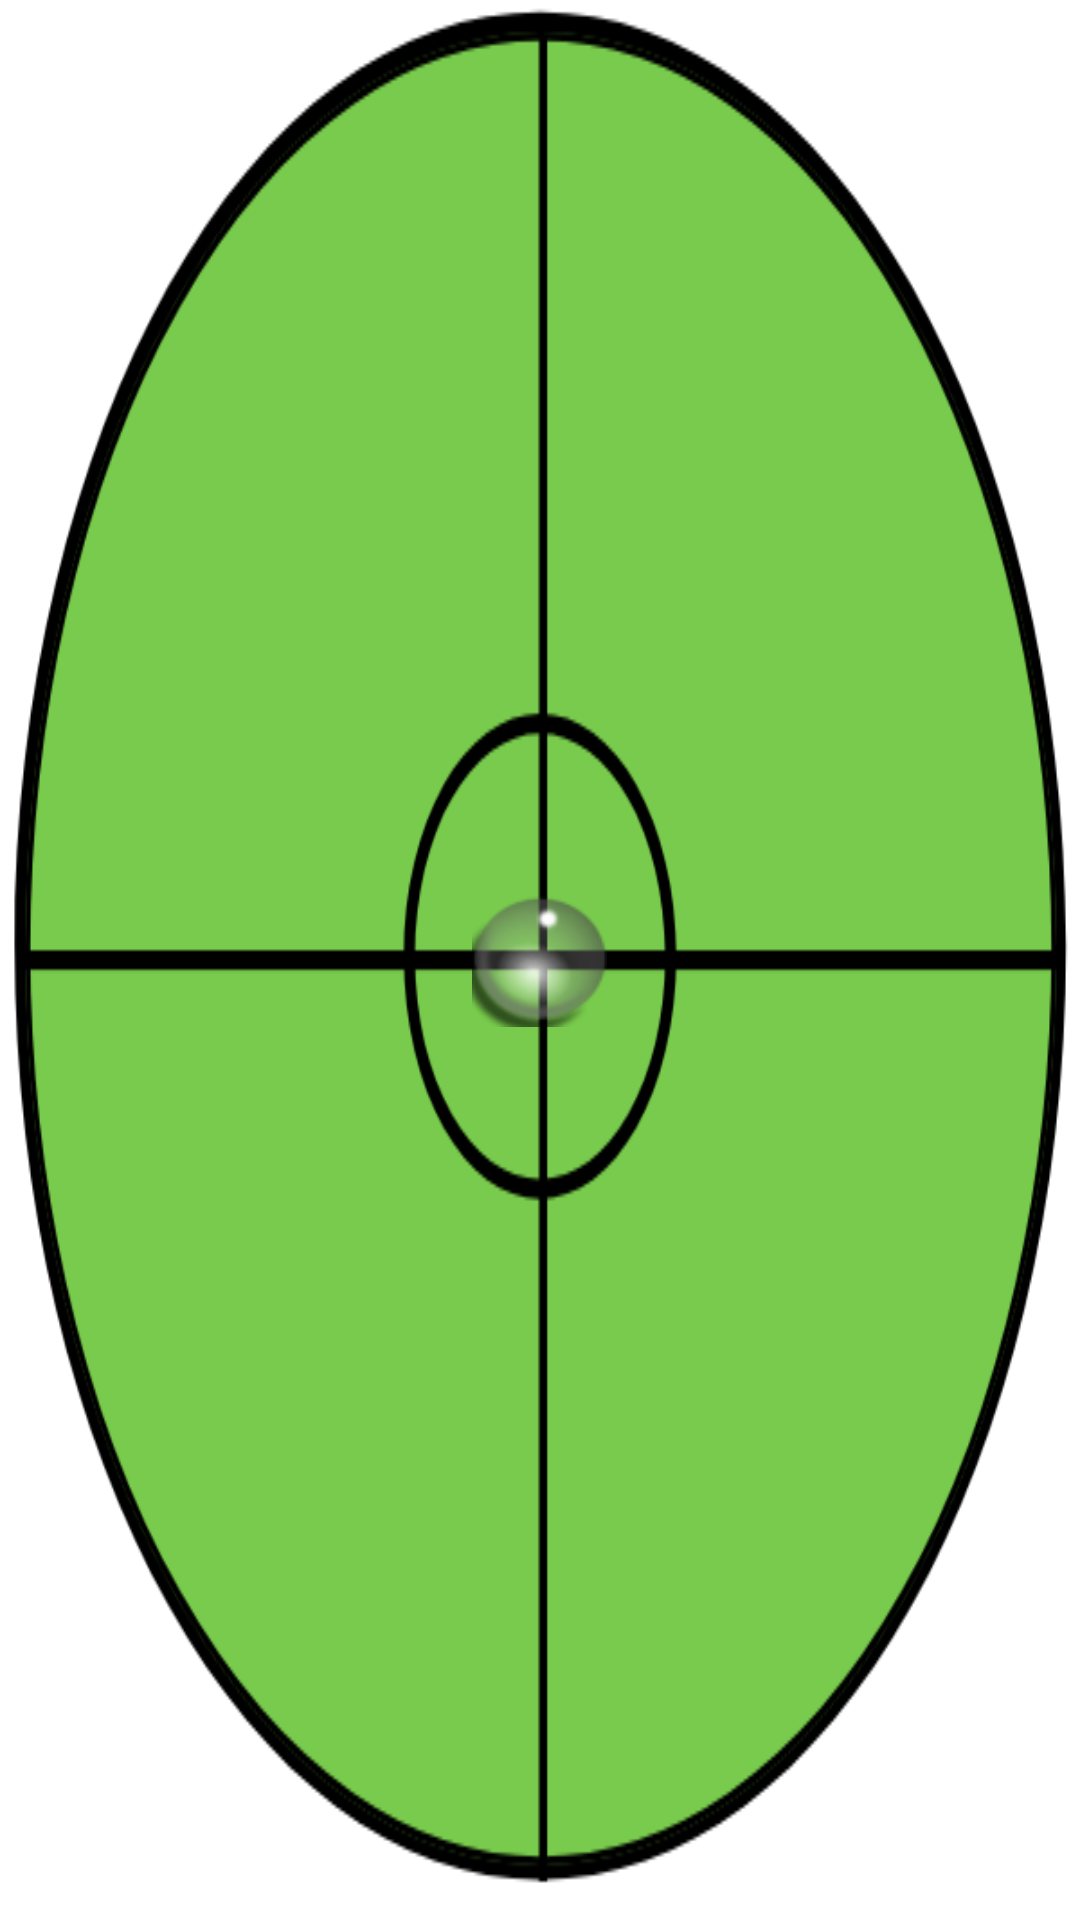

Icon bounding boxes for this 1080 × 1920 phone screenshot, format (x1, y1, x2, y2):
waterdrop circle: (472, 892, 607, 1027)
